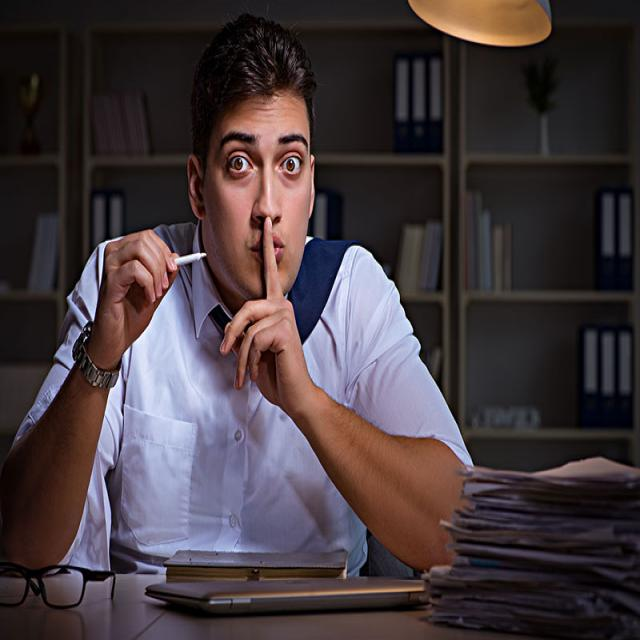smoking: (169, 250, 207, 270)
